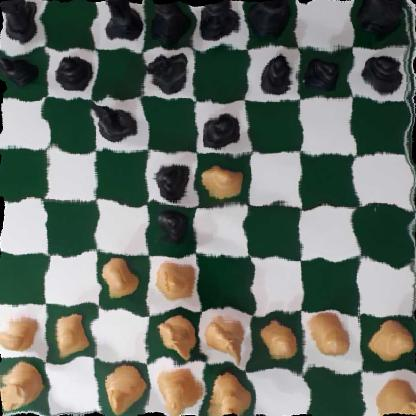black-bishop: (102, 0, 142, 42), (248, 0, 289, 40)
black-king: (196, 0, 240, 46)
black-knight: (89, 97, 135, 141), (145, 50, 187, 92)
black-pawn: (198, 108, 242, 151), (152, 161, 195, 205), (359, 52, 402, 94), (254, 54, 296, 96), (153, 205, 190, 244), (303, 55, 344, 90), (56, 54, 91, 94), (0, 50, 36, 86)
black-queen: (148, 0, 190, 44)
black-rook: (357, 0, 410, 39), (0, 0, 41, 41)
white-bishop: (155, 255, 197, 302), (102, 364, 143, 412)
white-king: (206, 370, 247, 416)
white-knight: (205, 315, 248, 366), (156, 319, 198, 357)
white-pawn: (303, 313, 352, 358), (53, 311, 90, 359), (371, 320, 414, 361), (0, 310, 40, 352), (259, 318, 298, 361), (201, 164, 246, 201), (101, 256, 137, 300)
white-queen: (154, 359, 201, 416)
white-rook: (0, 362, 45, 412), (375, 380, 416, 416)
